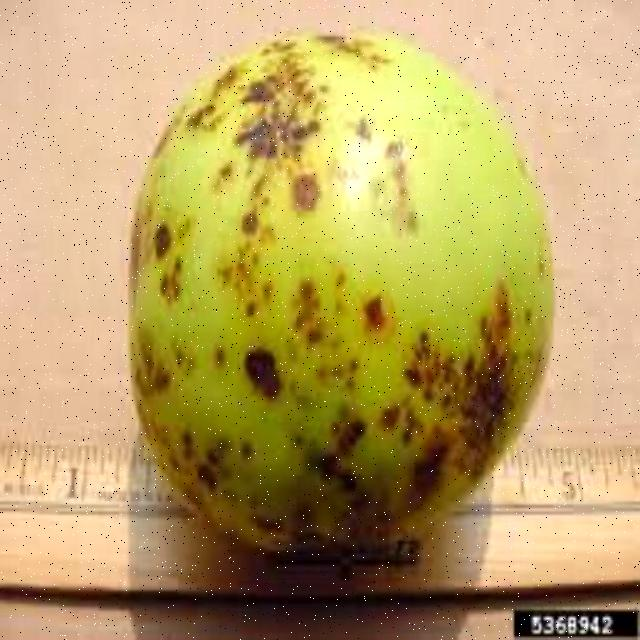BLOTCH: (83, 28, 580, 594)
